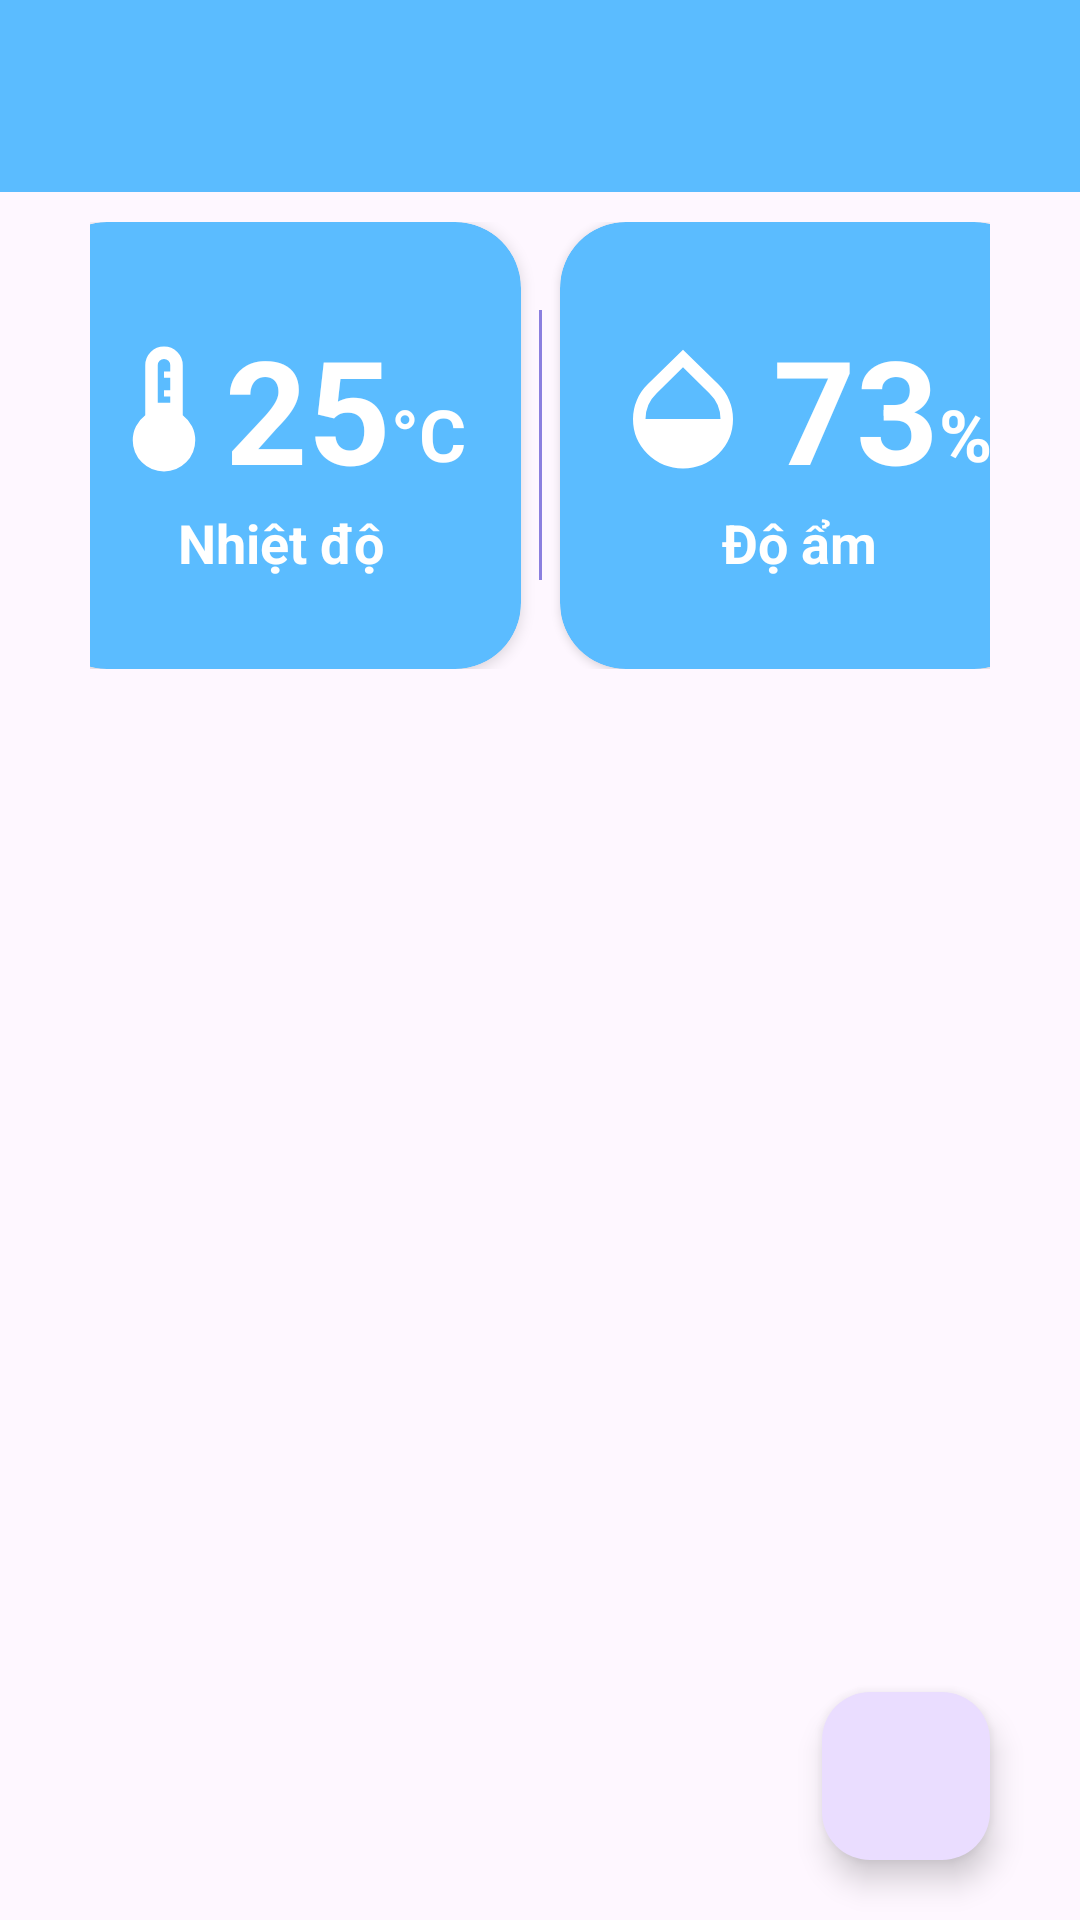

Where to tap for icons on this 1080w x 1920h app screen, as (x=x, y=y):
hum: (x=683, y=409)
